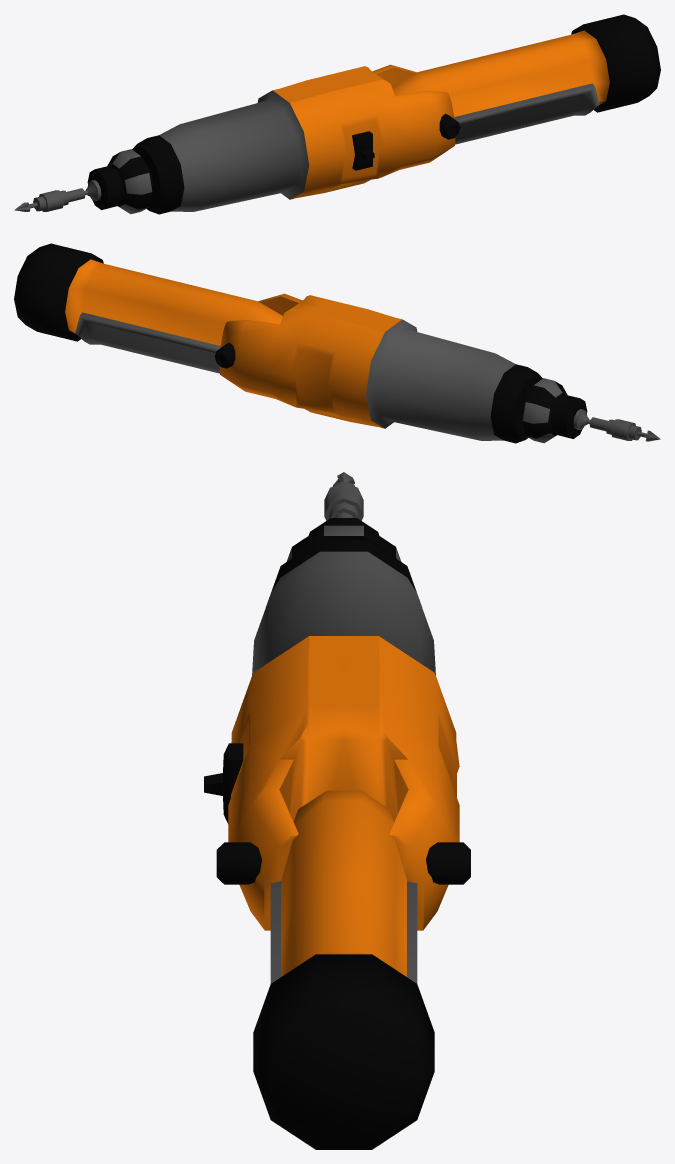
Rendered from 06_Visseuse 1.fbx.
The picture shows the model from 3 angles, top to bottom: view 1: azimuth 30°, elevation 25°; view 2: azimuth 150°, elevation 25°; view 3: azimuth 270°, elevation 25°; orthographic projection. The views are drawn at different scales.
Parts seen in each view (by area): view 1: Visseuse, Manche; view 2: Visseuse, Manche; view 3: Visseuse, Manche.
Boxes of the visible parts, x1=… form: Visseuse: x1=14, y1=64, x2=460, y2=214; Manche: x1=392, y1=14, x2=660, y2=144; Visseuse: x1=214, y1=293, x2=660, y2=443; Manche: x1=14, y1=243, x2=282, y2=373; Visseuse: x1=204, y1=472, x2=470, y2=930; Manche: x1=253, y1=790, x2=434, y2=1149.
Bounding box in the file's own units: 0.839 × 0.1273 × 0.1546.
